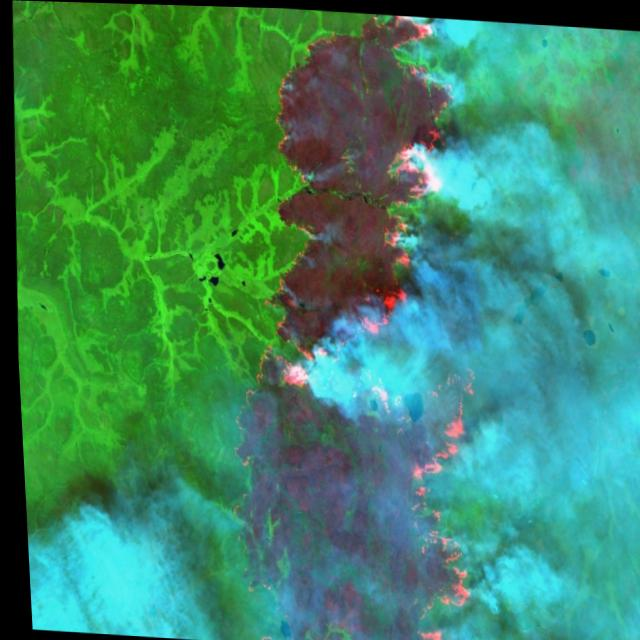fire: (215, 5, 495, 640)
